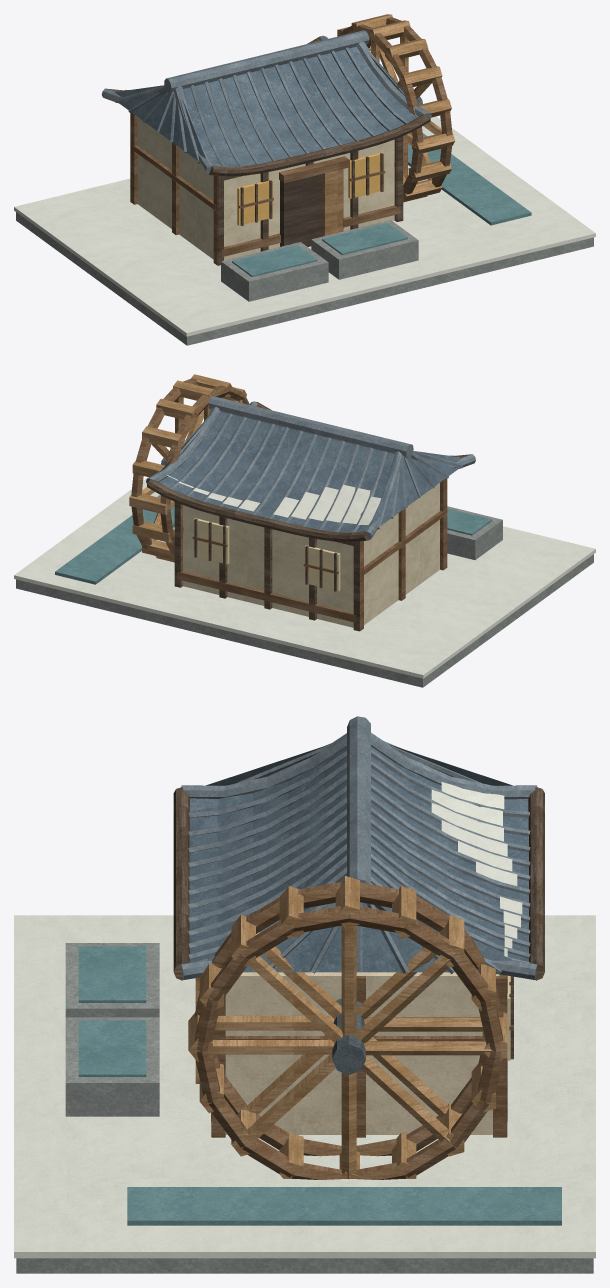
The model's file is BLD_WATER.glb.
3 views of the same model, one above another, from view 1: azimuth 30°, elevation 25°; view 2: azimuth 150°, elevation 25°; view 3: azimuth 270°, elevation 25° (orthographic). The views are drawn at different scales.
Visible parts, largest first — view 1: BLD_WATER; view 2: BLD_WATER; view 3: BLD_WATER.
Part boxes in pixels (x1,y1,x2,y2): BLD_WATER: (14,14,595,345); BLD_WATER: (14,374,595,687); BLD_WATER: (14,716,595,1273).
Bounding box in the file's own units: 7.04 × 2.88 × 5.14.
Materials: 13 (13 with a texture image).
